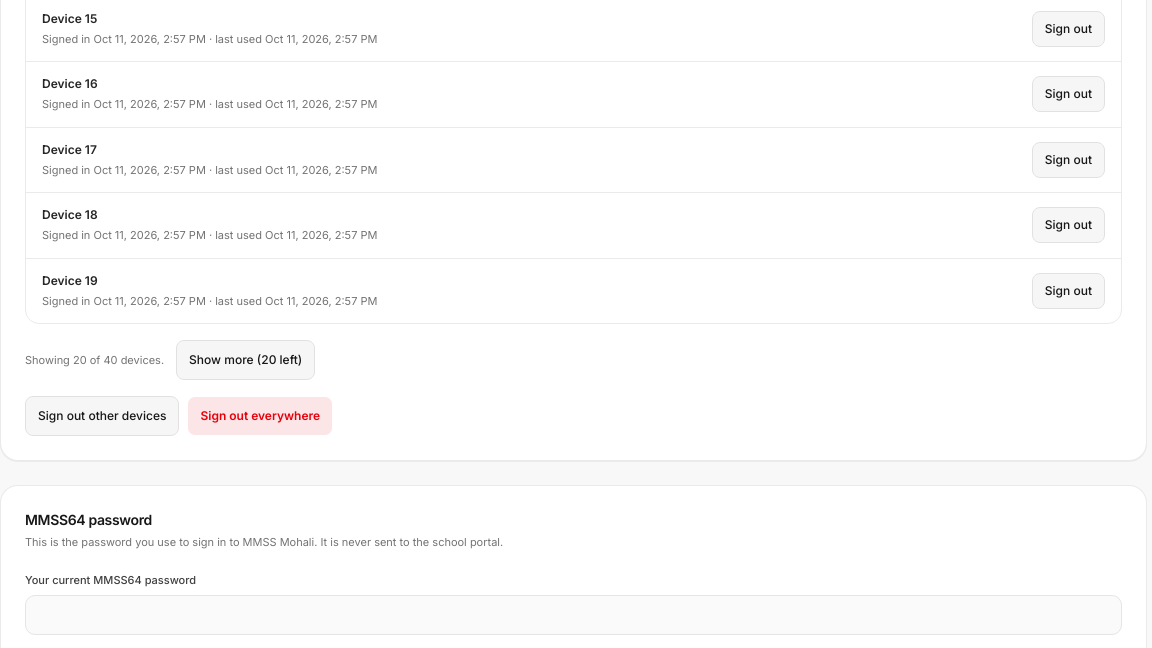
Test case: AccountSecurityPanel pagination › asks for the page after the rows it already holds
This screenshot has width=1152, height=648.
(page scrolled)
Expected: the text "Showing 20 of 40 devices." is shown, top-left (25, 352), bottom-right (164, 368)
Step 1. Click the button "Show more (20 left)" → (246, 360), box top-left (176, 340), bottom-right (315, 380)
(page scrolled)
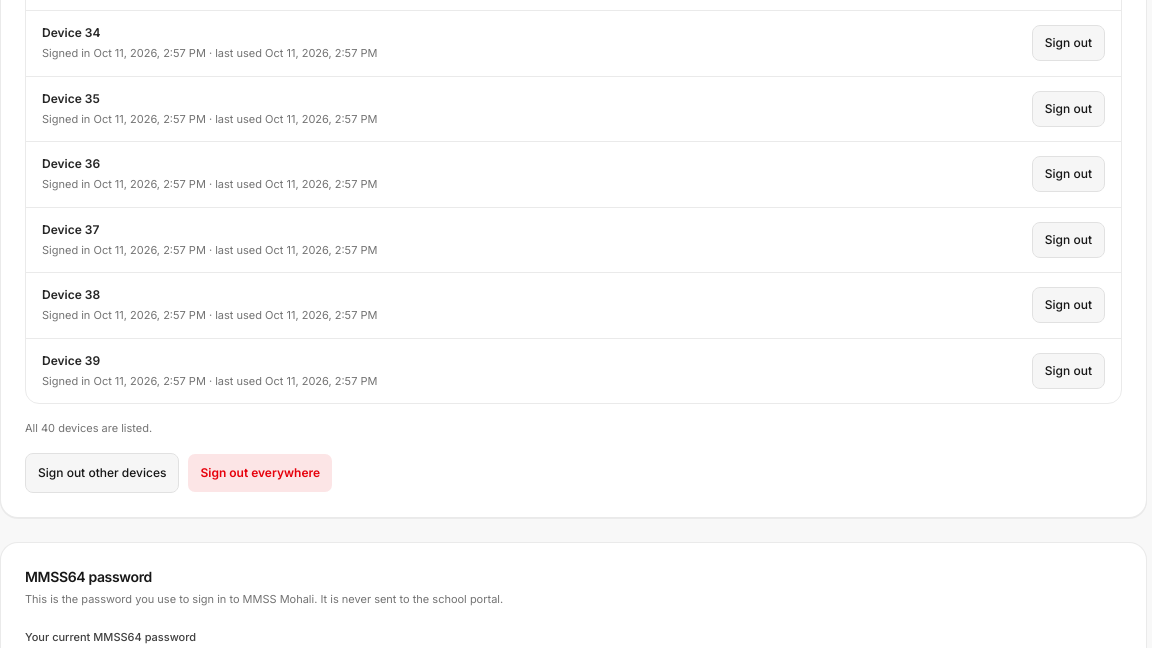
Now the text "Device 39" is shown, box top-left (42, 353), bottom-right (100, 369)
